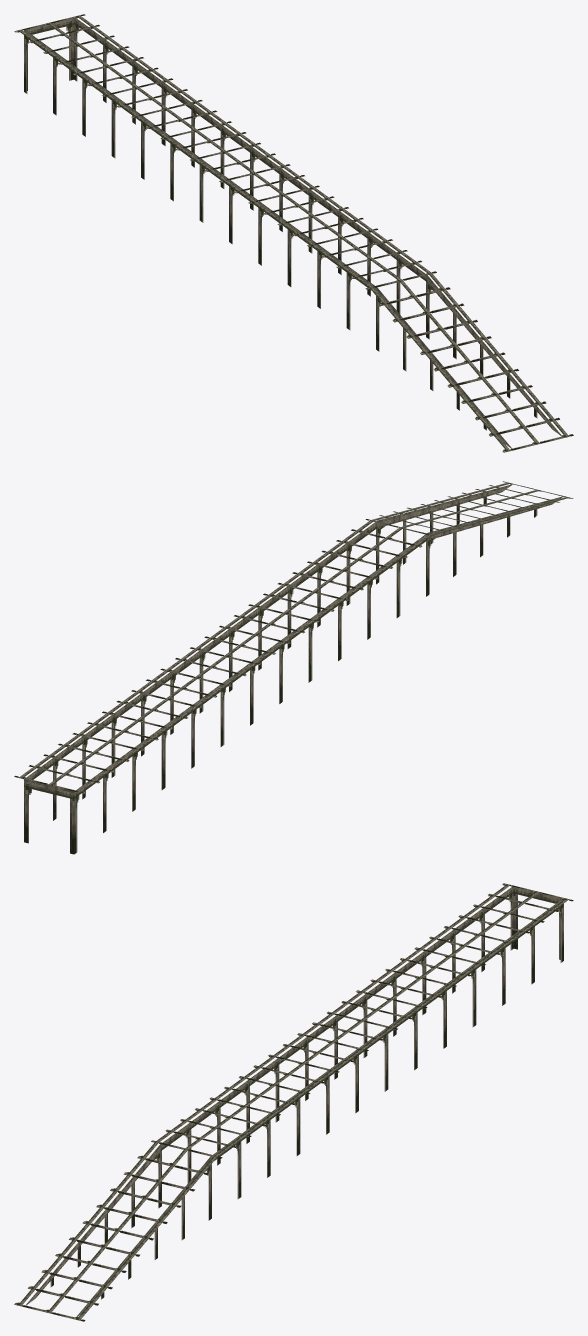
The model's file is uvmd-0070.glb.
The picture shows the model from 3 angles, top to bottom: view 1: azimuth 30°, elevation 25°; view 2: azimuth 150°, elevation 25°; view 3: azimuth 330°, elevation 25°; orthographic projection.
Parts seen in each view (by area): view 1: uvmd-0070; view 2: uvmd-0070; view 3: uvmd-0070.
Part boxes in pixels (<box>): uvmd-0070: <box>14,14,573,452</box>; uvmd-0070: <box>14,481,573,854</box>; uvmd-0070: <box>14,883,573,1321</box>.
Size of the model in its own units: 28 by 24 by 338.
Materials: 1 (1 with a texture image).
